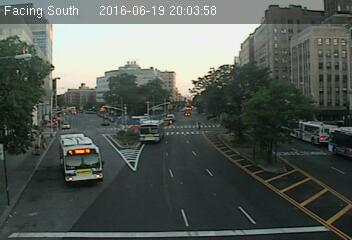neg: (305, 56, 327, 86), (191, 177, 211, 205), (135, 55, 155, 81), (58, 68, 77, 95), (245, 151, 264, 177), (300, 127, 319, 153), (222, 120, 241, 146), (99, 55, 118, 80), (292, 176, 310, 200), (246, 94, 264, 117), (81, 144, 98, 168), (139, 139, 156, 162), (294, 85, 311, 108), (36, 107, 53, 129), (131, 105, 147, 127), (218, 76, 234, 98), (152, 197, 168, 219), (192, 58, 207, 78), (25, 52, 40, 72), (98, 193, 111, 210), (51, 195, 64, 212)
